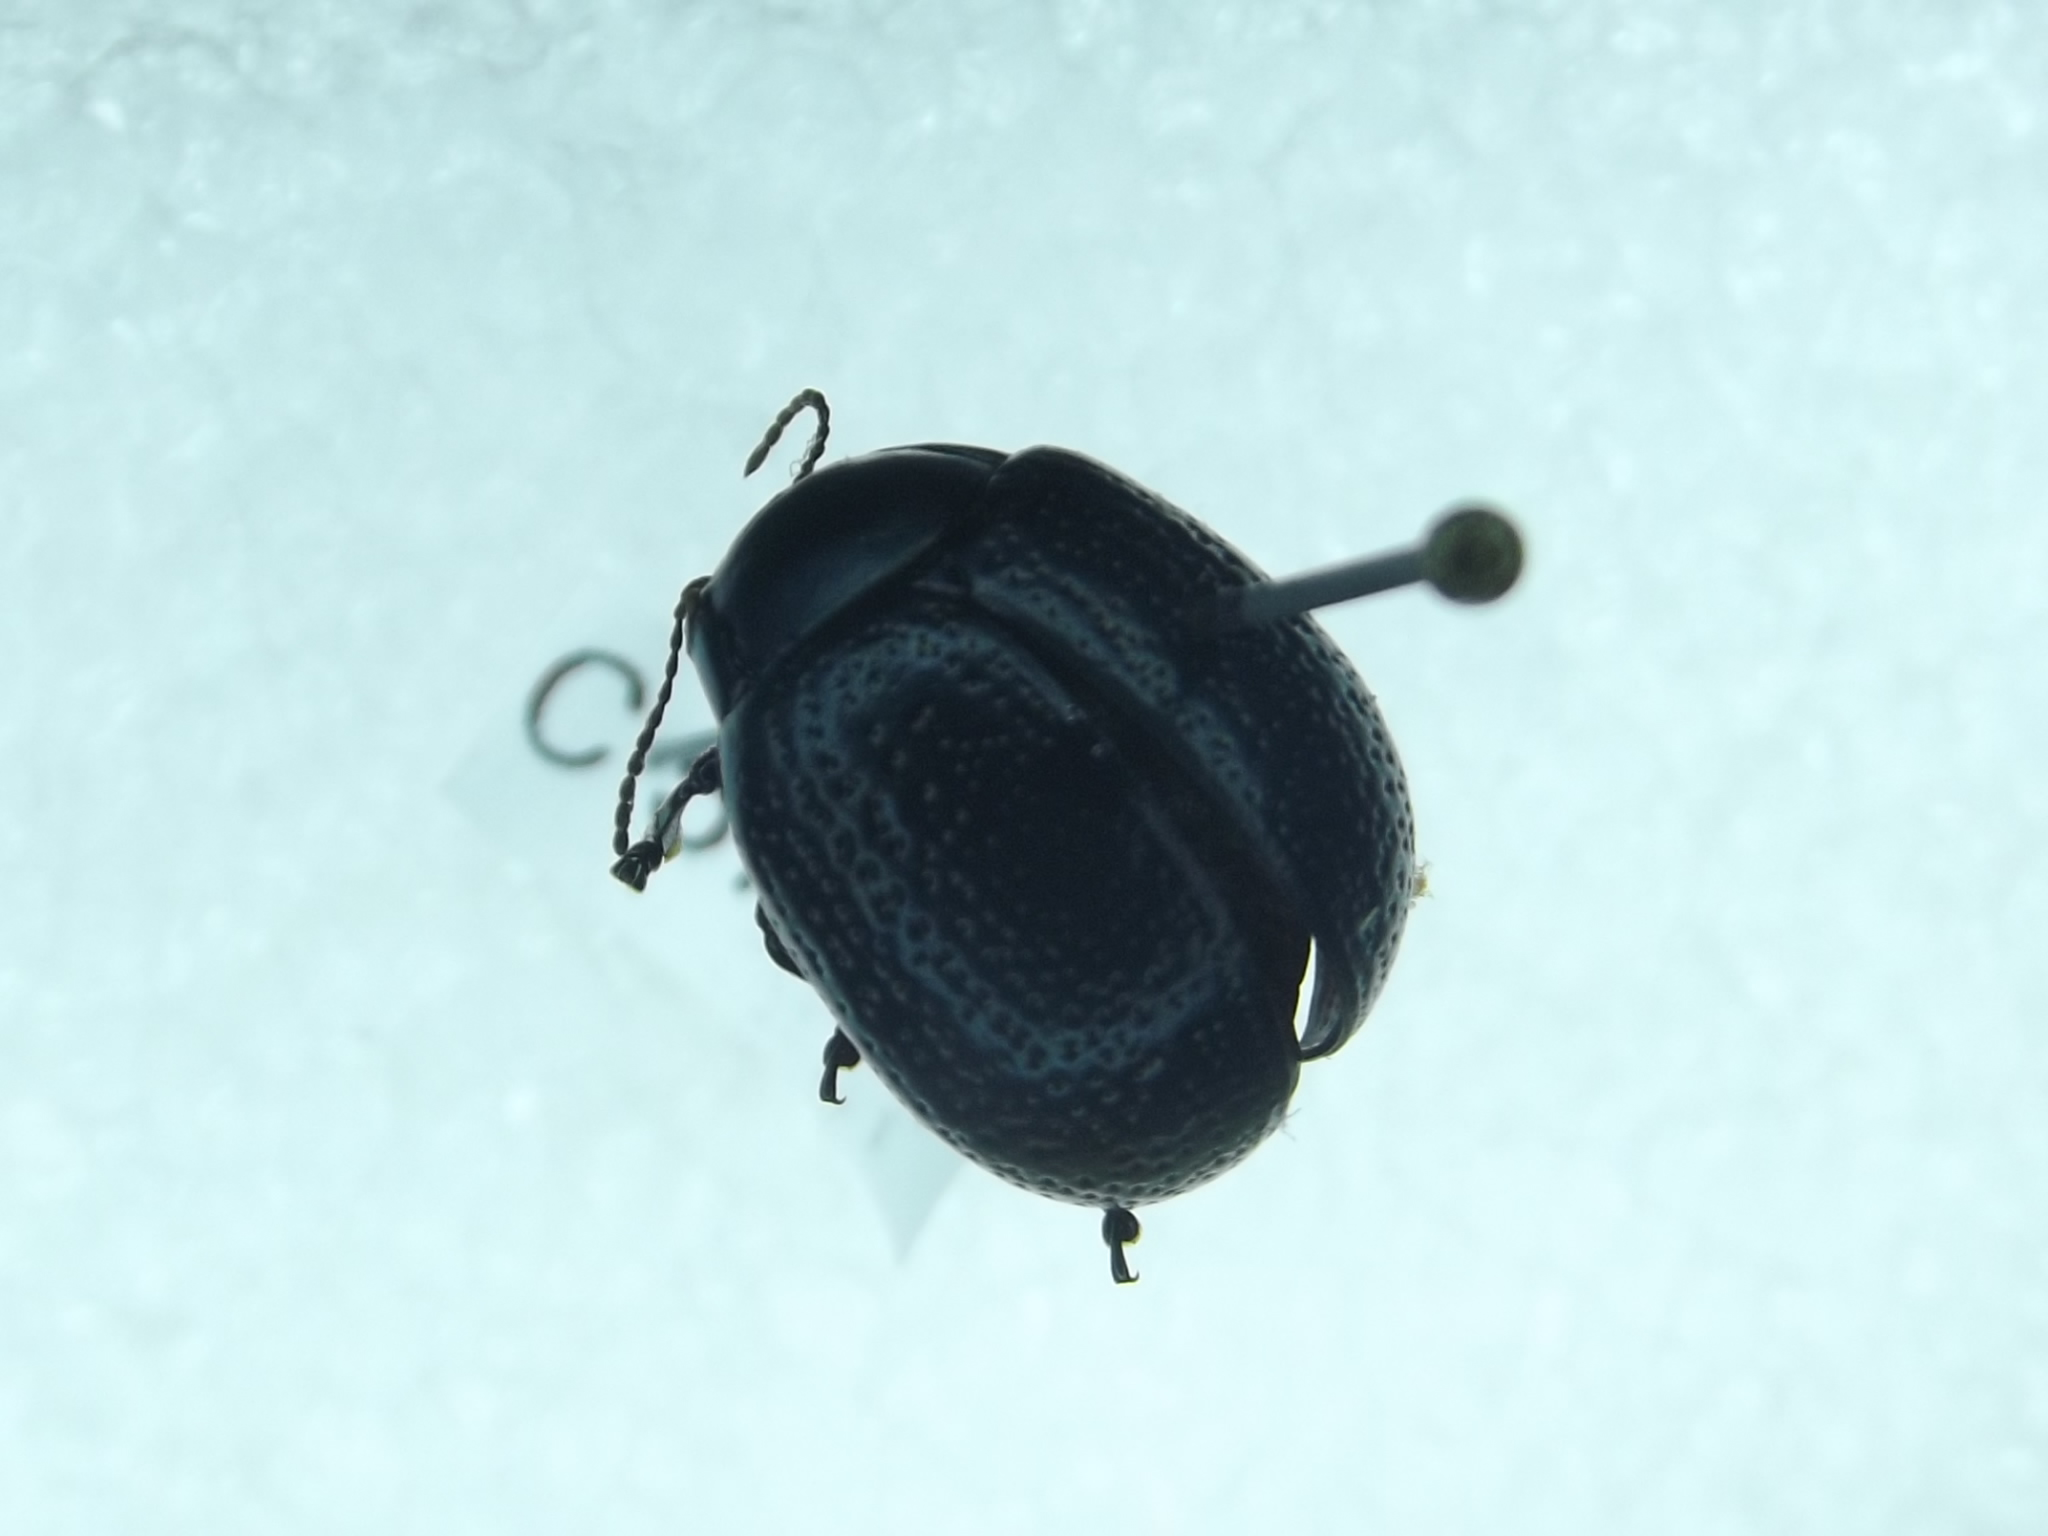Chrysolina_oricalcia: (598, 373, 1432, 1302)
